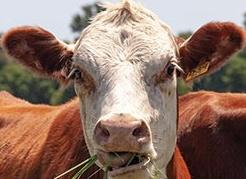muzzles: (91, 112, 156, 176)
